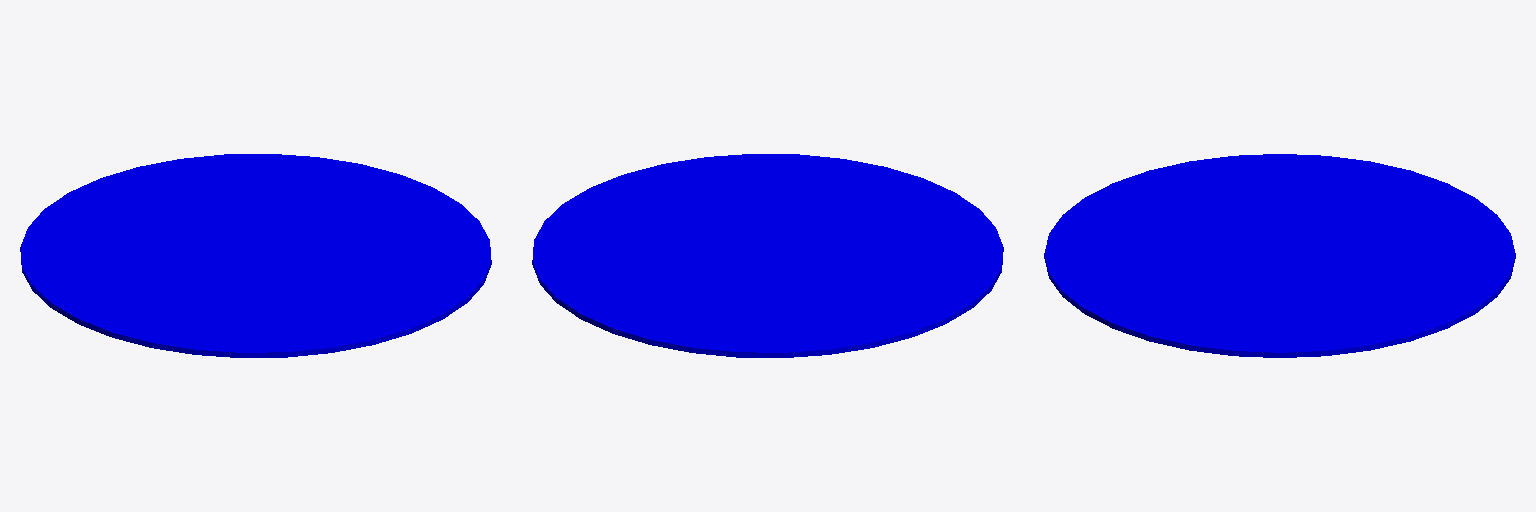
robot.urdf — round_plate.urdf:
<?xml version="1.0" ?>
<robot name="round_plate.urdf">

  <link name="round_plate">

    <visual>
      <origin rpy="0 0 0" xyz="0 0 0.00125"/>
      <geometry>
        <cylinder length="0.0025" radius="0.1"/>
      </geometry>
      <material name="blue">
       <color rgba="0.0 0.0 1.0 1.0"/>
     </material>
    </visual>

    <inertial>
       <origin xyz="0 0 0.00125"/>
       <mass value="0.01"/>
       <inertia ixx="1" ixy="0" ixz="0" iyy="1" iyz="0" izz="1"/>
    </inertial>

    <collision>
      <origin rpy="0 0 0" xyz="0 0 0.00125"/>
      <geometry>
				<cylinder length="0.0025" radius="0.1"/>
      </geometry>
    </collision>

  </link>

</robot>

--- What the picture shows (computed from the rendered views, not written in the file) ---
3 views of the same robot in one strip: view 1: azimuth 30°, elevation 25°; view 2: azimuth 150°, elevation 25°; view 3: azimuth 270°, elevation 25° (orthographic).
Model round_plate.urdf with 1 links and 0 joints (none), rooted at round_plate, posed all joints at 0.
Links seen in each view (by area): view 1: round_plate; view 2: round_plate; view 3: round_plate.
Boxes of the visible links, box(x1,y1,x2,y2) form: round_plate: box(20, 154, 491, 357); round_plate: box(532, 154, 1003, 357); round_plate: box(1044, 154, 1515, 357).
Size in the robot's own frame: 0.2 by 0.2 by 0.0025 metres.
Geometry: primitives only (box / cylinder / sphere), no mesh files.